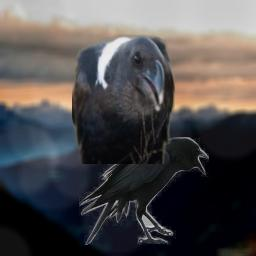Crow: (79, 137, 209, 245), (72, 34, 175, 164)
